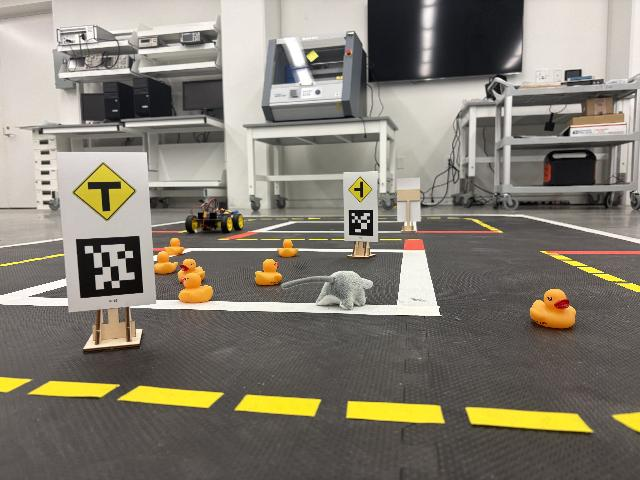duck: (528, 288, 577, 331), (178, 272, 213, 303), (253, 258, 284, 285), (178, 258, 205, 283), (153, 251, 178, 274), (277, 238, 299, 257), (164, 237, 184, 256)
l_intersection: (348, 177, 373, 203)
mouse: (282, 270, 374, 310)
redline: (546, 250, 640, 254), (417, 230, 499, 233), (403, 239, 425, 250), (225, 232, 259, 239), (152, 231, 178, 233)
t_intersection: (72, 162, 136, 222)
whiteline: (0, 295, 442, 317), (522, 214, 640, 245), (396, 250, 440, 314), (0, 277, 65, 298), (186, 248, 402, 254)
yellowline: (0, 376, 640, 437), (542, 251, 640, 295), (1, 252, 65, 266), (225, 237, 405, 241), (466, 218, 505, 232)
